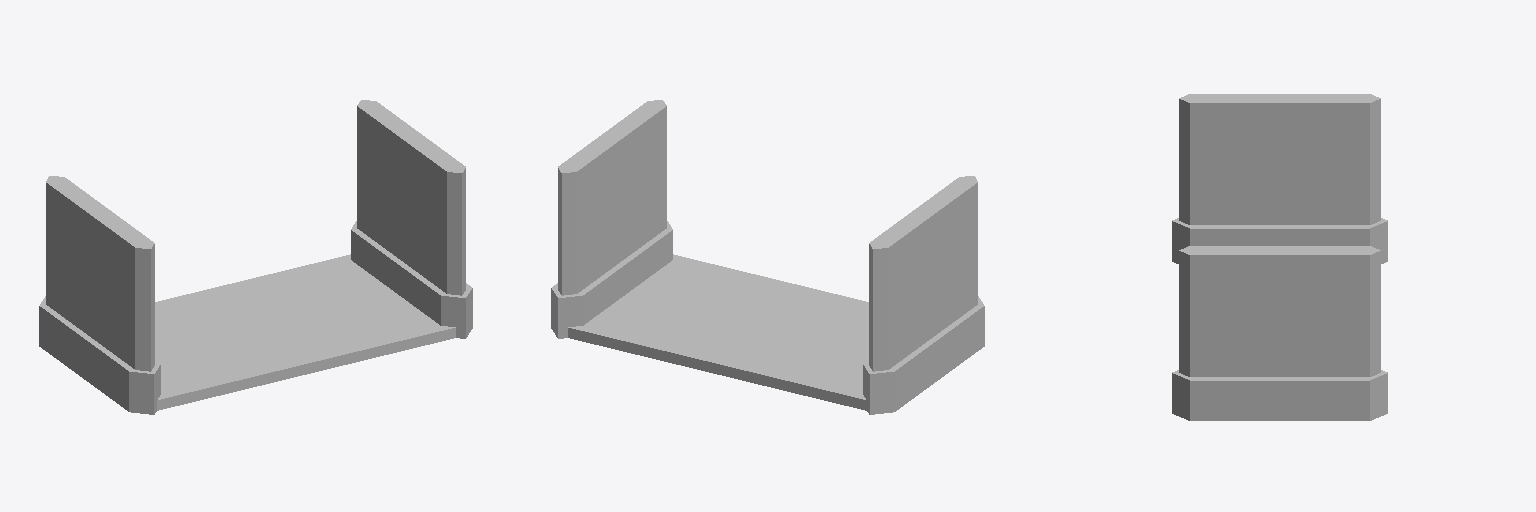
Rendered from hallway_short_02.obj.
The picture shows the model from 3 angles: view 1: azimuth 30°, elevation 25°; view 2: azimuth 150°, elevation 25°; view 3: azimuth 270°, elevation 25°; orthographic projection.
Parts seen in each view (by area): view 1: floor_04_90, wall_01_98, wall_01_97; view 2: floor_04_90, wall_01_98, wall_01_97; view 3: wall_01_97, wall_01_98.
Part boxes in pixels (bbox=[...]): floor_04_90: bbox=[155, 254, 455, 410]; wall_01_98: bbox=[39, 176, 160, 414]; wall_01_97: bbox=[351, 100, 472, 338]; floor_04_90: bbox=[568, 254, 868, 410]; wall_01_98: bbox=[863, 176, 984, 414]; wall_01_97: bbox=[551, 100, 672, 338]; wall_01_97: bbox=[1172, 246, 1387, 420]; wall_01_98: bbox=[1172, 94, 1387, 263].
Size of the model in its own units: 2.21 by 1 by 1.21.